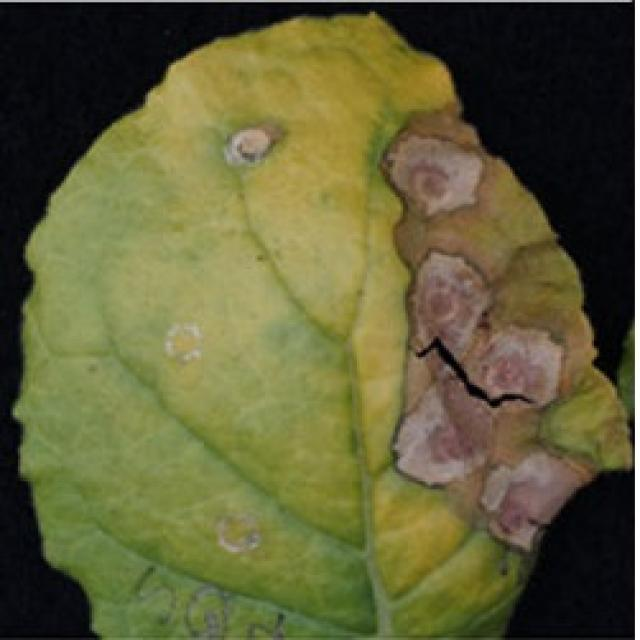Fusarium Wilt: (373, 145, 512, 533)
